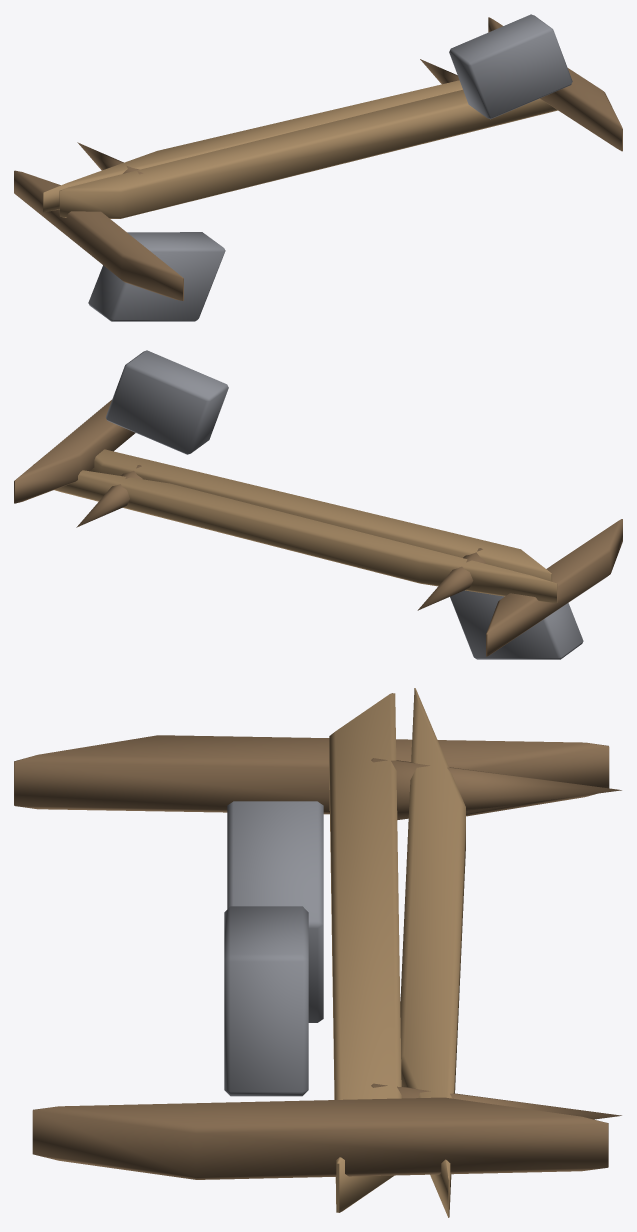
The model's file is environment_tutorial_road_blocker.glb.
3 renders of one model, top to bottom at view 1: azimuth 30°, elevation 25°; view 2: azimuth 150°, elevation 25°; view 3: azimuth 270°, elevation 25°, orthographic. The views are drawn at different scales.
Visible parts, largest first — view 1: environment_tutorial_road_blocker; view 2: environment_tutorial_road_blocker; view 3: environment_tutorial_road_blocker.
Part boxes in pixels (<box>): environment_tutorial_road_blocker: <box>14,14,622,321</box>; environment_tutorial_road_blocker: <box>14,350,622,659</box>; environment_tutorial_road_blocker: <box>14,688,621,1217</box>.
Bounding box in the file's own units: 3.87 × 1.49 × 2.02.
